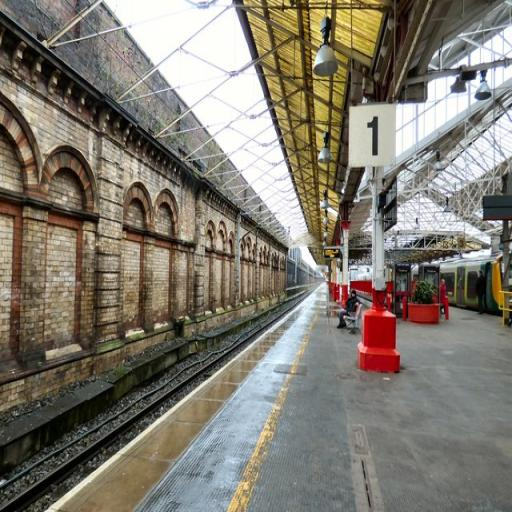platform_edge: (24, 291, 324, 512)
